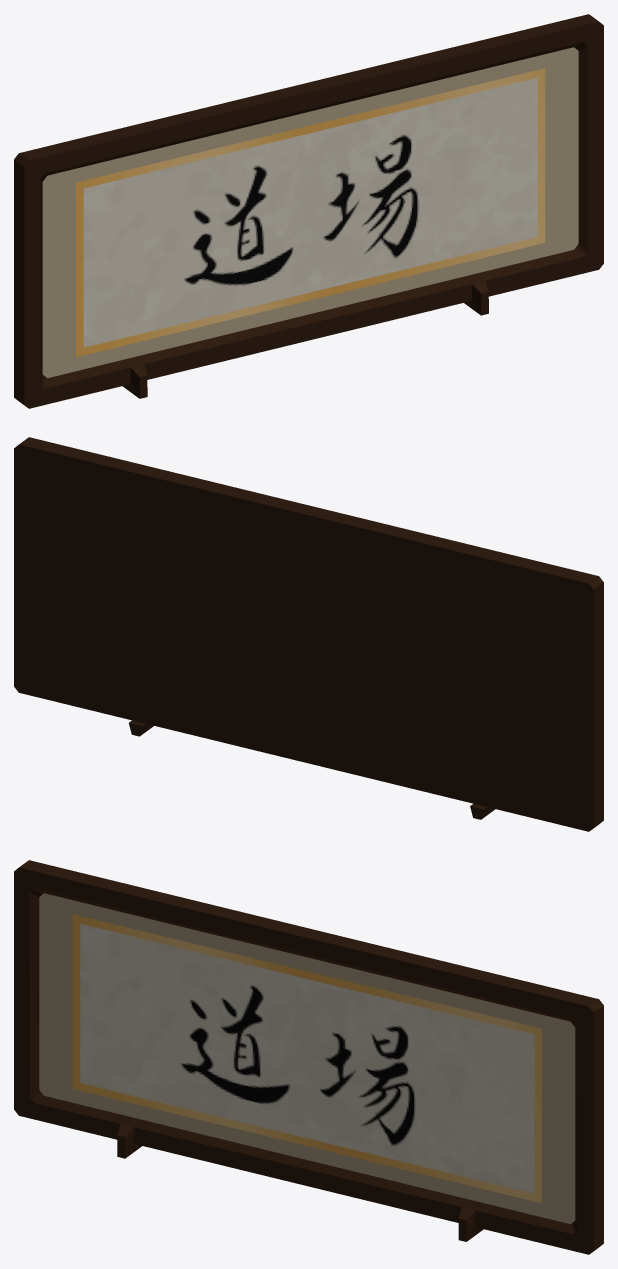
File: Prop_Dojo_Frame_A.fbx
The picture shows the model from 3 angles, top to bottom: view 1: azimuth 30°, elevation 25°; view 2: azimuth 150°, elevation 25°; view 3: azimuth 330°, elevation 25°; orthographic projection.
Visible parts, largest first — view 1: Prop_Dojo_Frame_A; view 2: Prop_Dojo_Frame_A; view 3: Prop_Dojo_Frame_A.
Boxes of the visible parts, x1,y1,x2,y2 form: Prop_Dojo_Frame_A: [14, 14, 603, 408]; Prop_Dojo_Frame_A: [14, 437, 603, 831]; Prop_Dojo_Frame_A: [14, 860, 603, 1254].
Bounding box in the file's own units: 197 × 84.19 × 11.6.
